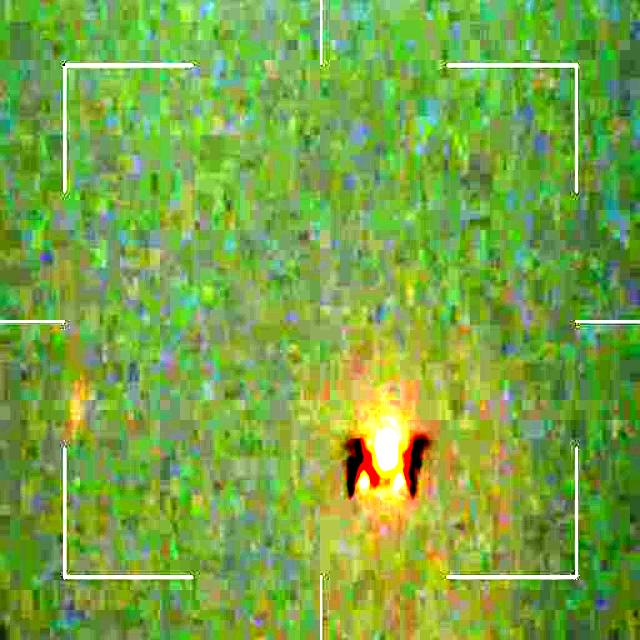bird: (342, 421, 434, 495)
